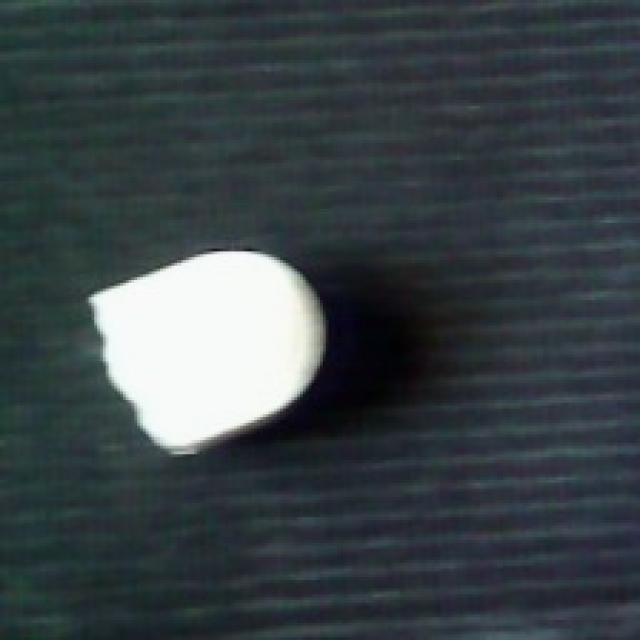defected: (74, 240, 334, 463)
